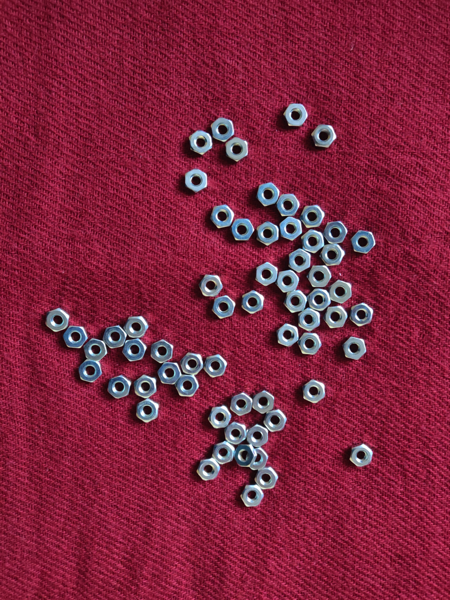nut: (311, 123, 337, 150), (351, 228, 377, 255), (210, 203, 235, 231), (209, 117, 235, 143), (188, 130, 214, 156), (107, 375, 133, 401), (198, 274, 225, 299), (283, 102, 308, 128), (256, 221, 281, 247), (210, 442, 236, 467), (349, 443, 373, 470), (230, 217, 255, 242), (275, 192, 300, 217), (301, 230, 326, 255), (288, 248, 313, 273), (307, 264, 332, 289), (302, 379, 327, 404), (203, 353, 228, 378), (45, 308, 70, 333), (279, 216, 303, 242), (323, 220, 349, 244), (255, 262, 279, 288), (212, 294, 236, 320), (343, 337, 369, 361), (246, 423, 270, 449), (180, 351, 204, 377), (151, 339, 175, 365), (122, 339, 148, 363), (134, 373, 158, 399), (123, 316, 150, 339), (225, 137, 249, 162), (185, 168, 209, 193), (350, 302, 374, 327), (297, 308, 322, 332), (298, 331, 322, 356), (207, 405, 232, 429), (224, 421, 248, 446), (157, 361, 182, 385), (64, 325, 88, 350), (79, 359, 103, 384), (301, 205, 327, 228), (319, 243, 345, 266), (277, 322, 300, 348), (256, 182, 280, 206), (329, 279, 353, 303), (307, 288, 331, 312), (255, 467, 279, 491), (175, 374, 199, 398), (103, 325, 127, 349), (136, 399, 160, 423), (242, 290, 265, 315), (323, 306, 348, 329), (252, 390, 275, 415), (263, 410, 288, 433), (234, 444, 257, 469), (84, 337, 106, 363), (284, 290, 308, 313), (277, 270, 300, 293), (246, 448, 269, 471), (197, 459, 221, 481), (241, 484, 265, 506)
